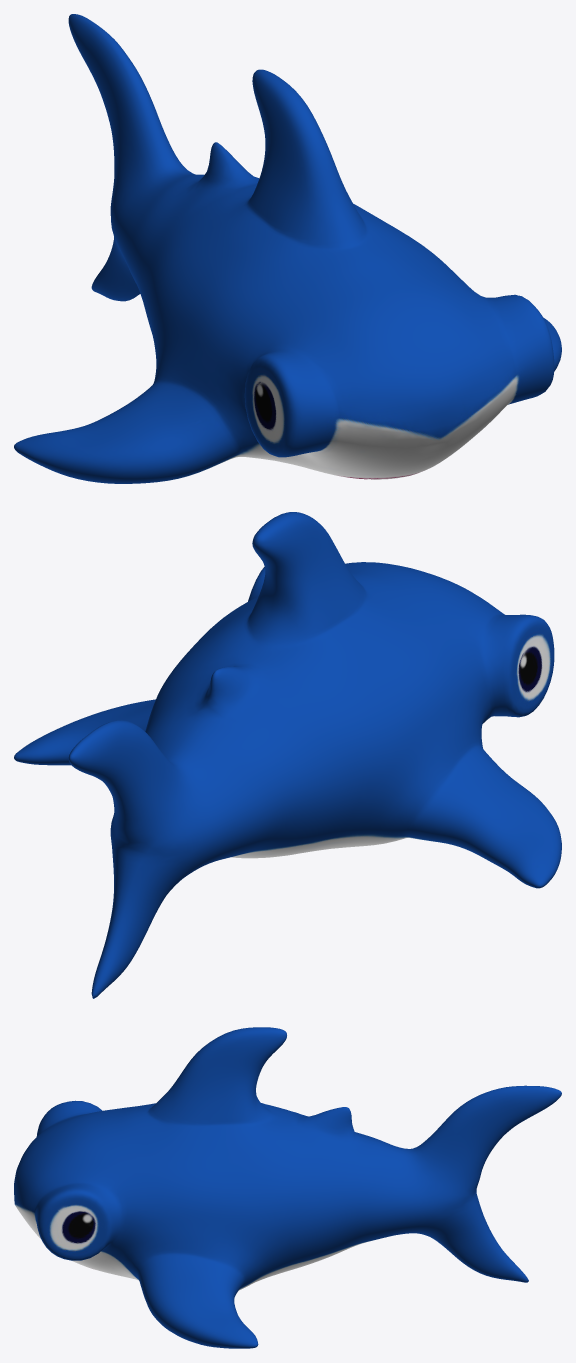
The model's file is igracka3.fbx.
3 renders of one model, top to bottom at view 1: azimuth 30°, elevation 25°; view 2: azimuth 150°, elevation 25°; view 3: azimuth 270°, elevation 25°, orthographic. The views are drawn at different scales.
Parts seen in each view (by area): view 1: Group57338; view 2: Group57338; view 3: Group57338.
Boxes of the visible parts, x1,y1,x2,y2 form: Group57338: [14, 14, 561, 483]; Group57338: [14, 512, 561, 998]; Group57338: [14, 1027, 561, 1348].
Bounding box in the file's own units: 1104 × 689 × 1343.
1 material, 1 textured.
